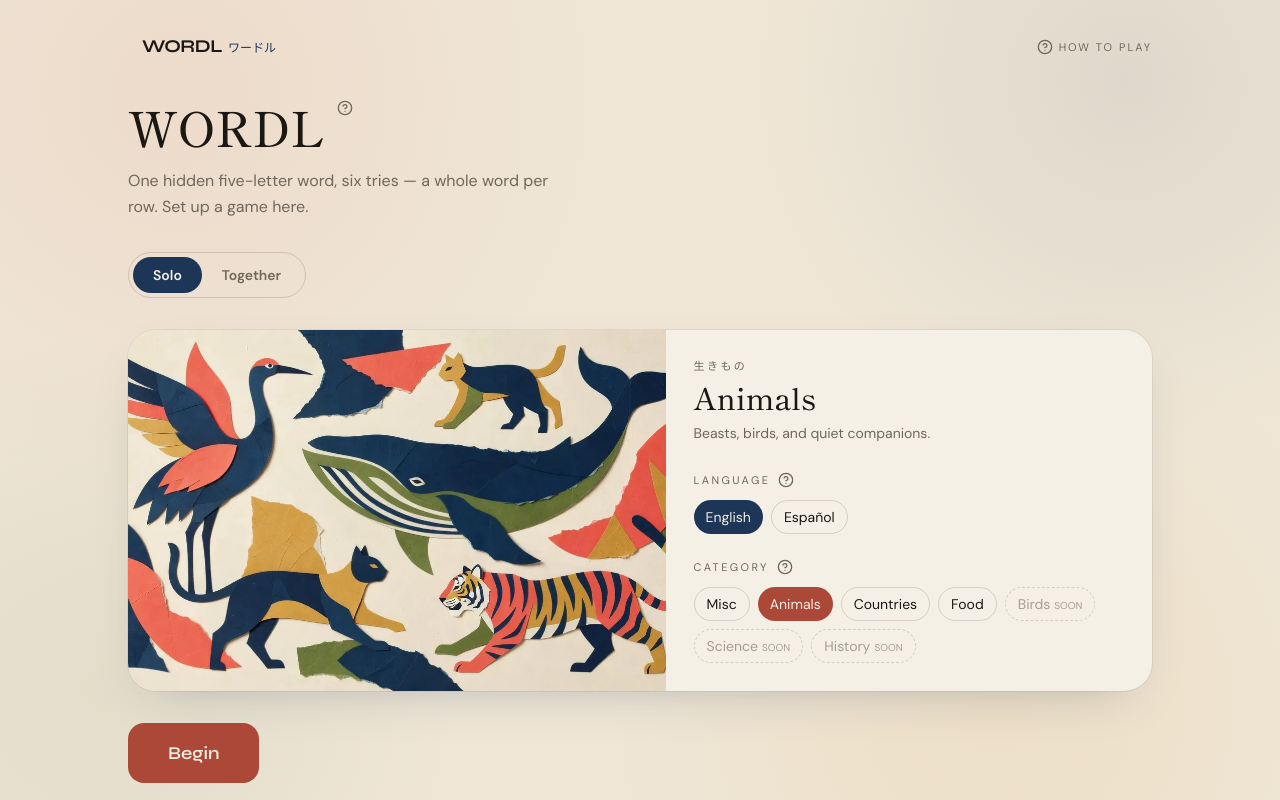
Test: Setup › category availability › disables Misc once Spanish is chosen
Expected: the radio button labelled "Misc" is enabled, [694,587,750,621]
What coordinates should you click on to do the following:
click the radio button with aria-label "Spanish"
I would click on:
 (809, 517)
Its box is [771,500,848,534].
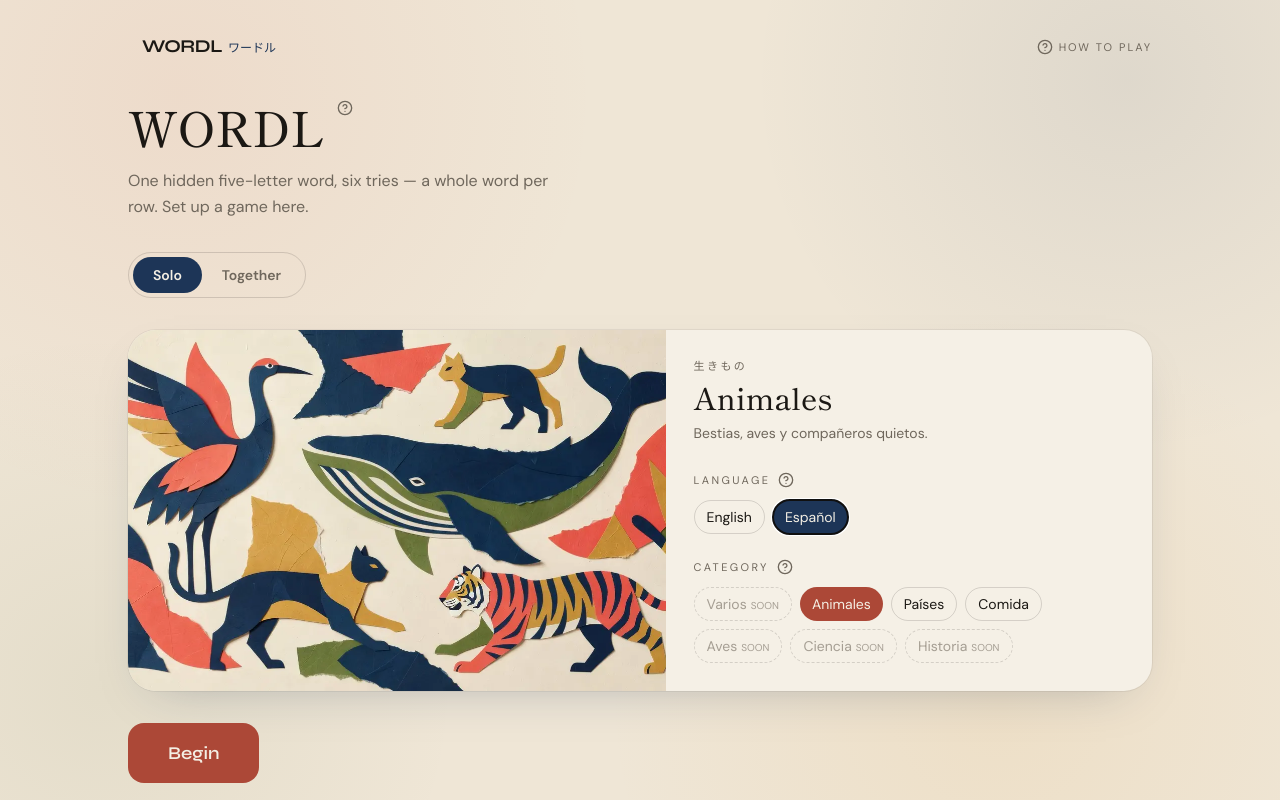
Expected: the radio button labelled "Animales" is enabled, [800,587,883,621]
Expected: the radio button labelled "Varios" is disabled, [694,587,792,621]
